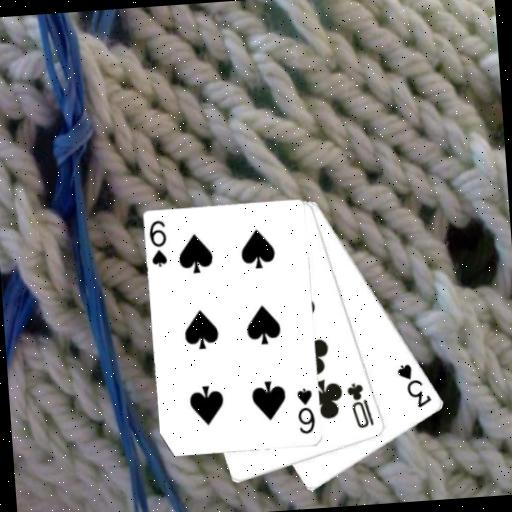10C: (344, 378, 376, 431)
3S: (394, 360, 435, 411)
6S: (294, 385, 318, 437), (147, 218, 171, 270)
